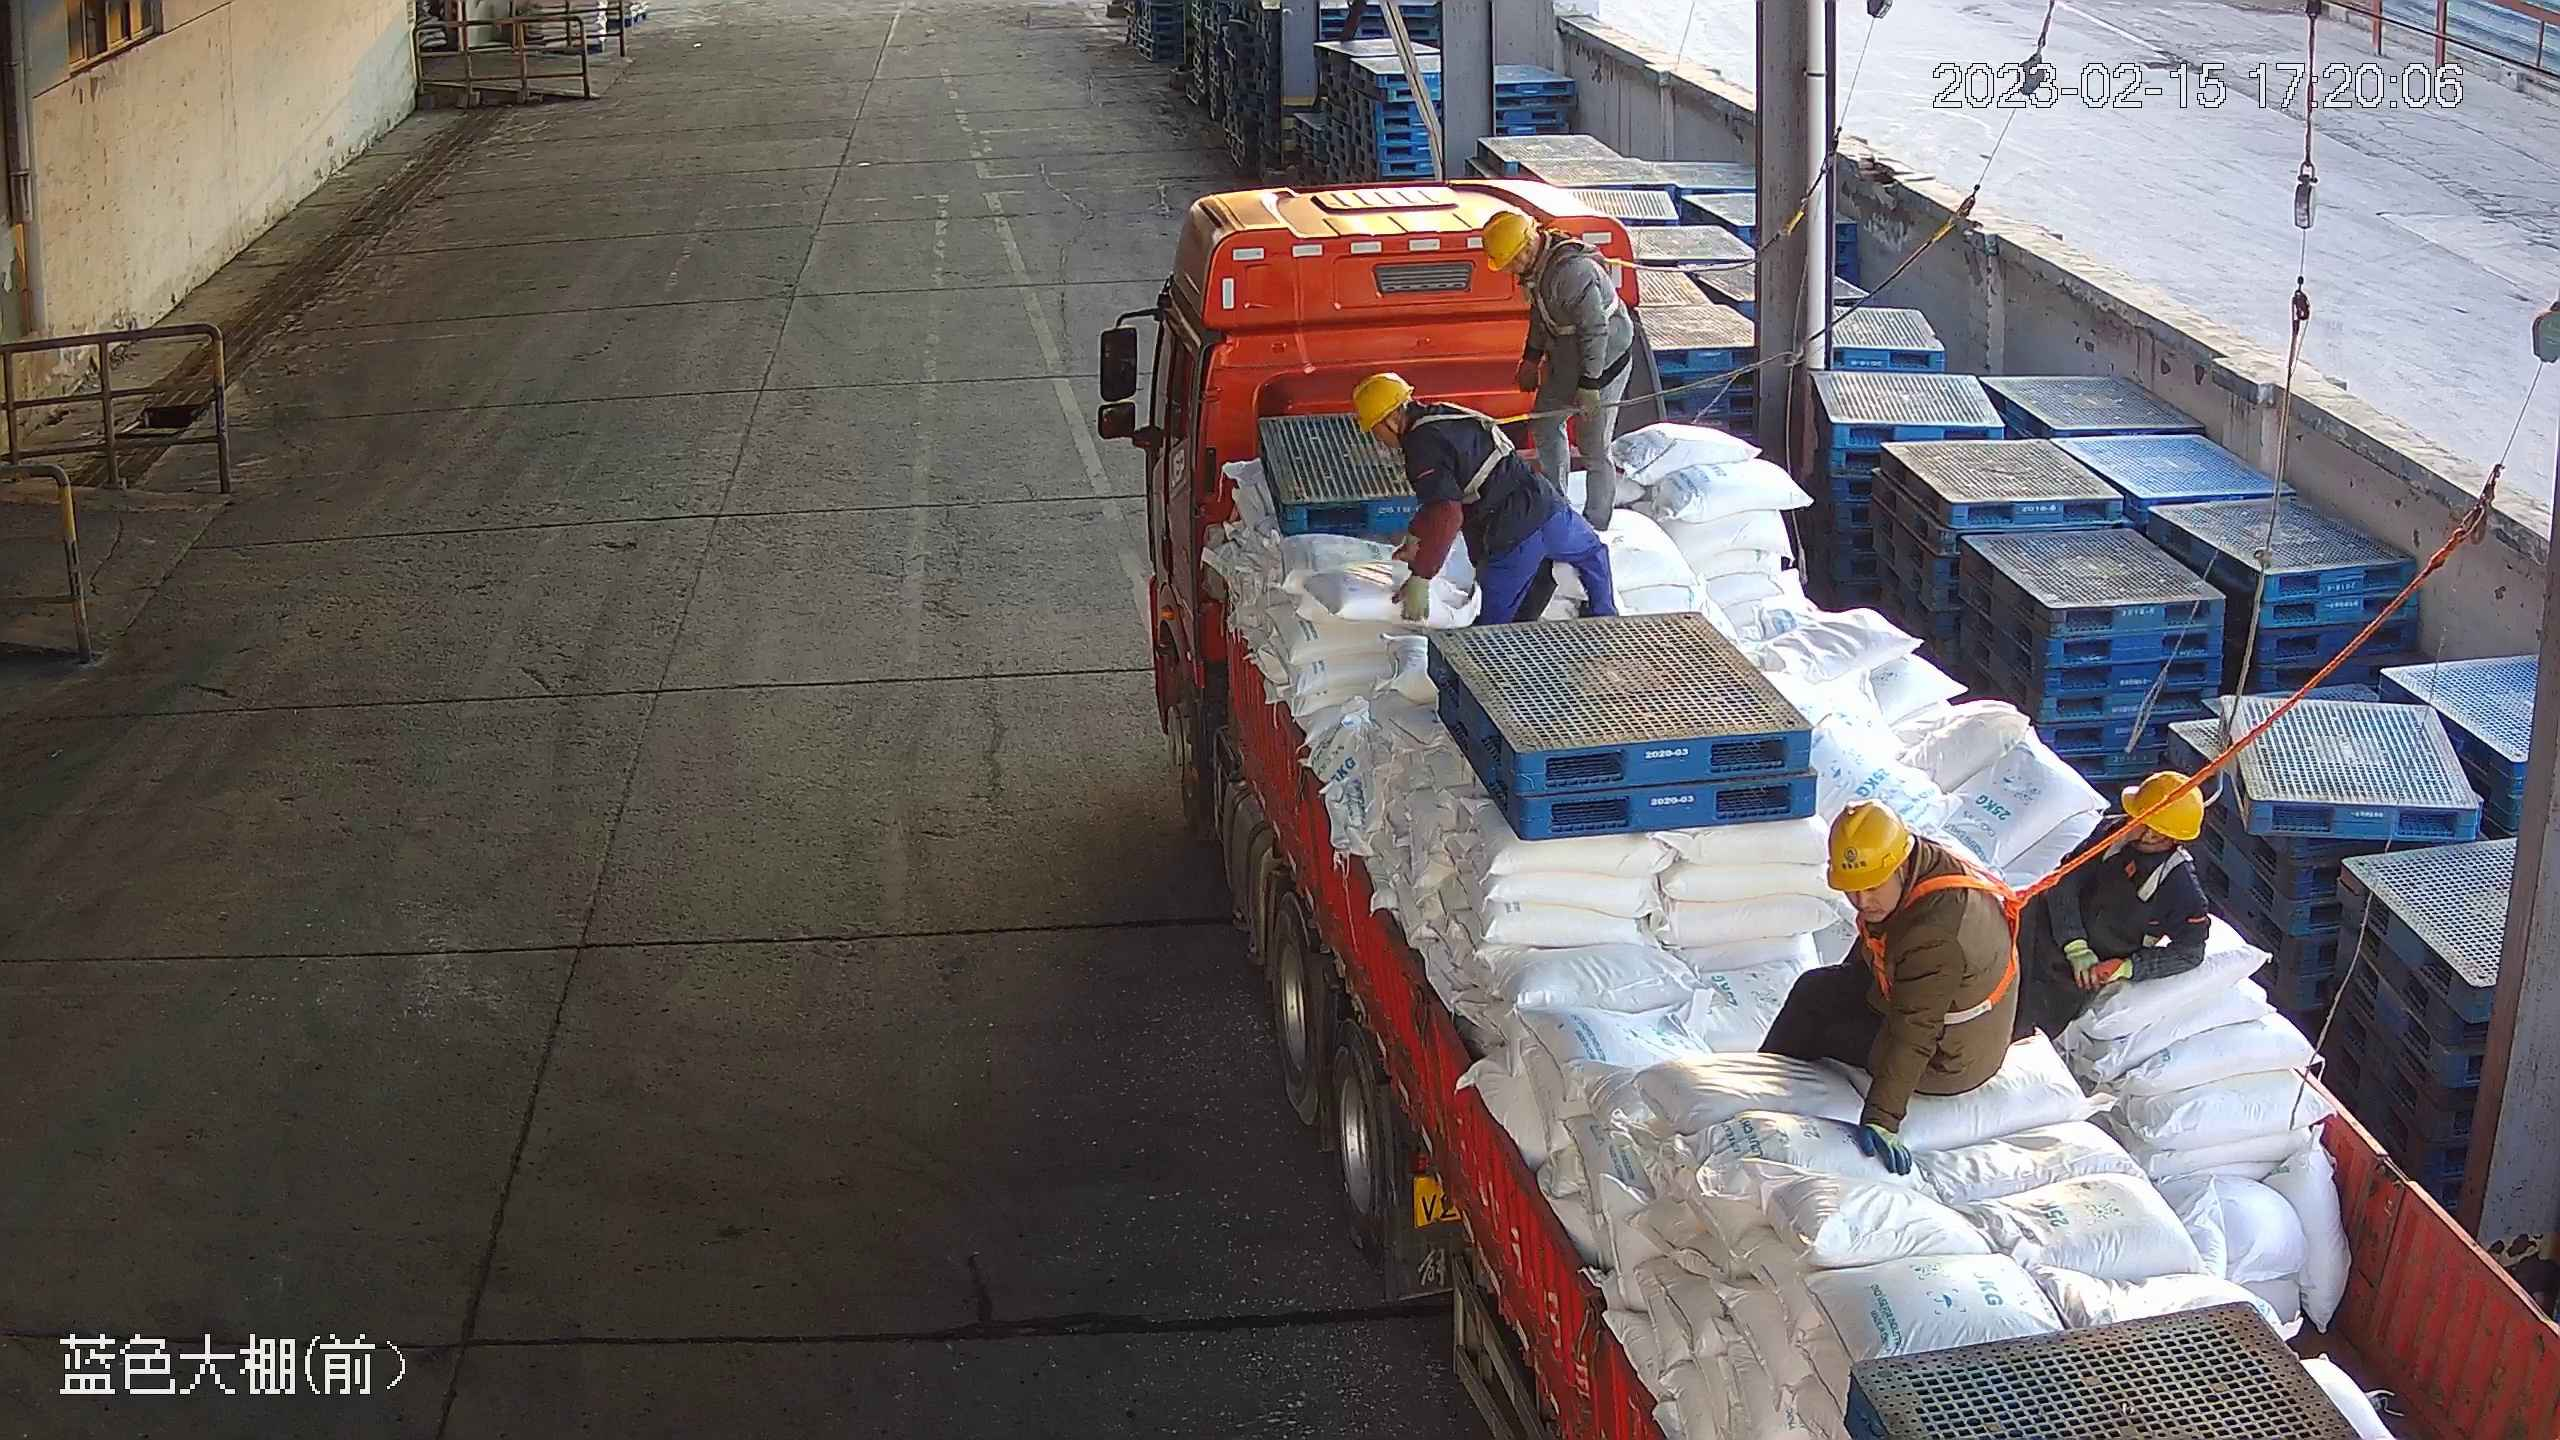belt: (1861, 874, 2027, 1025), (1423, 395, 1520, 490), (2101, 810, 2196, 903), (1533, 238, 1620, 336)
head: (1816, 803, 2011, 953), (2070, 764, 2216, 921), (1481, 208, 1618, 336), (1336, 364, 1483, 475)
helmet: (1827, 797, 1914, 903), (2118, 767, 2223, 847), (1342, 362, 1425, 429), (1477, 212, 1546, 264)
people: (1761, 793, 2030, 1134), (1344, 366, 1612, 632), (1480, 204, 1629, 534)
truck: (1103, 177, 2560, 1440)
